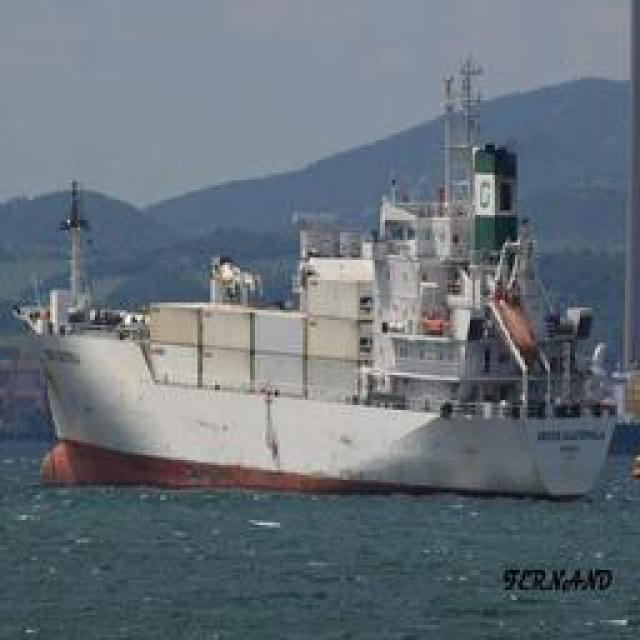Ship: (30, 90, 625, 498)
